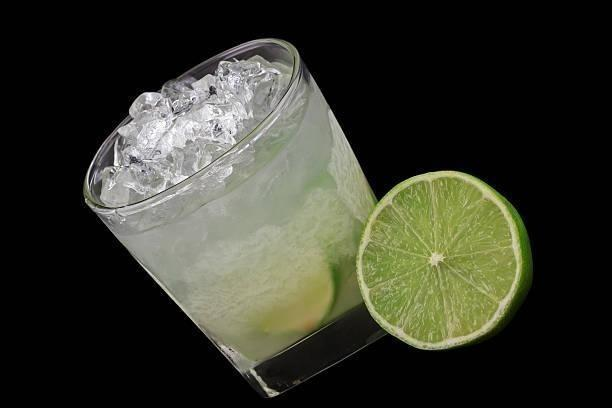glass-normal: (82, 36, 379, 400)
